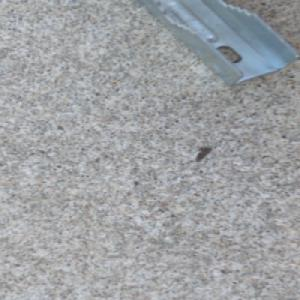ClampPart: (134, 0, 300, 87)
